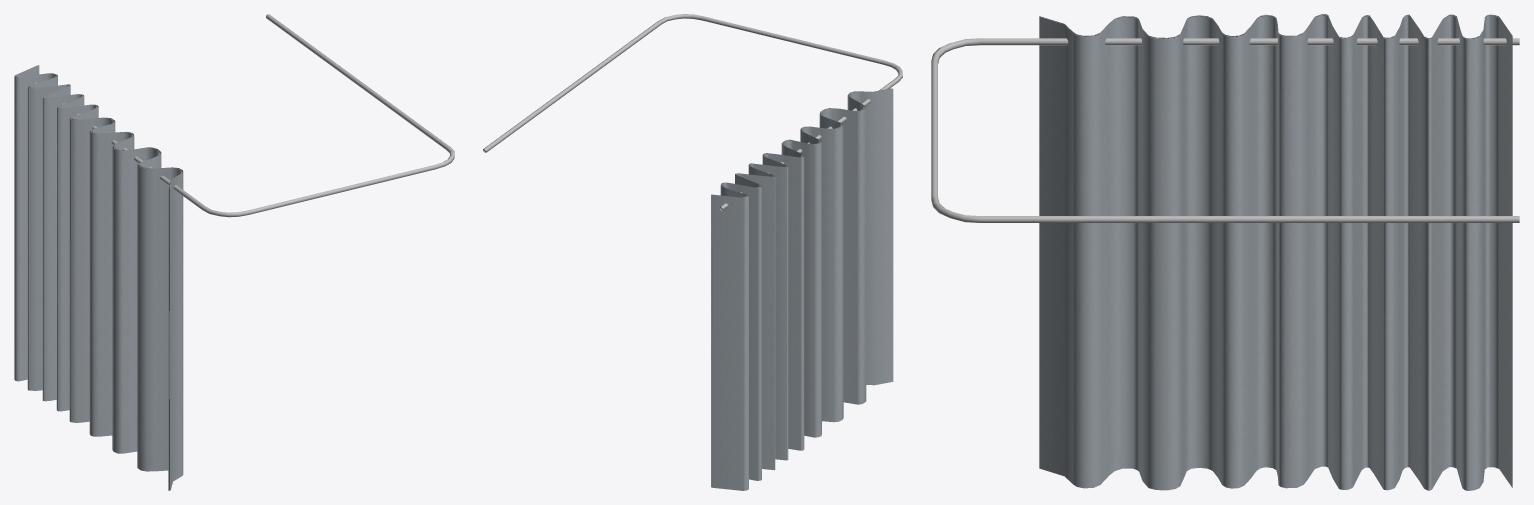
The model's file is Curtains.glb.
3 views of the same model, side by side, from view 1: azimuth 30°, elevation 25°; view 2: azimuth 150°, elevation 25°; view 3: azimuth 270°, elevation 25° (orthographic). The views are drawn at different scales.
Visible parts, largest first — view 1: Curtain; view 2: Curtain; view 3: Curtain.
Boxes of the visible parts, box(x1,y1,x2,y2) form: Curtain: box(14, 14, 454, 490); Curtain: box(483, 14, 902, 490); Curtain: box(931, 14, 1519, 490).
Bounding box in the file's own units: 470 × 512 × 605.
1 material, 1 textured.
